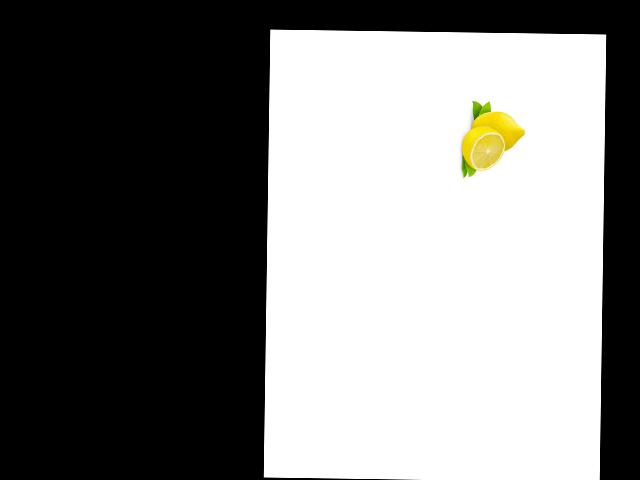lemon: (466, 106, 526, 153)
